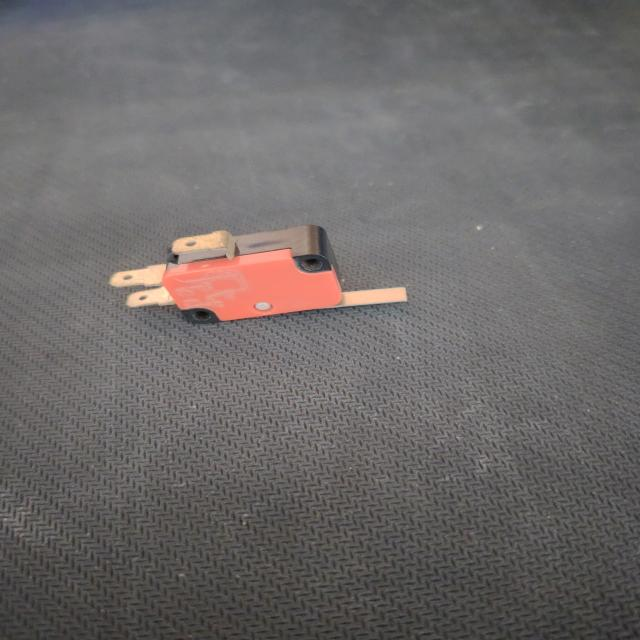switch: (103, 218, 425, 330)
